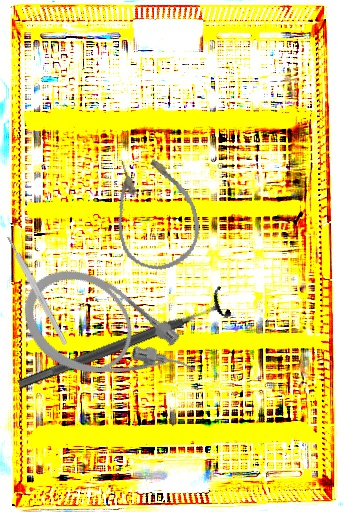Cannula: (4, 249, 211, 425), (100, 144, 209, 278)
Fixation Ring: (12, 284, 233, 401)
Scalpel Handle: (5, 234, 69, 347)
